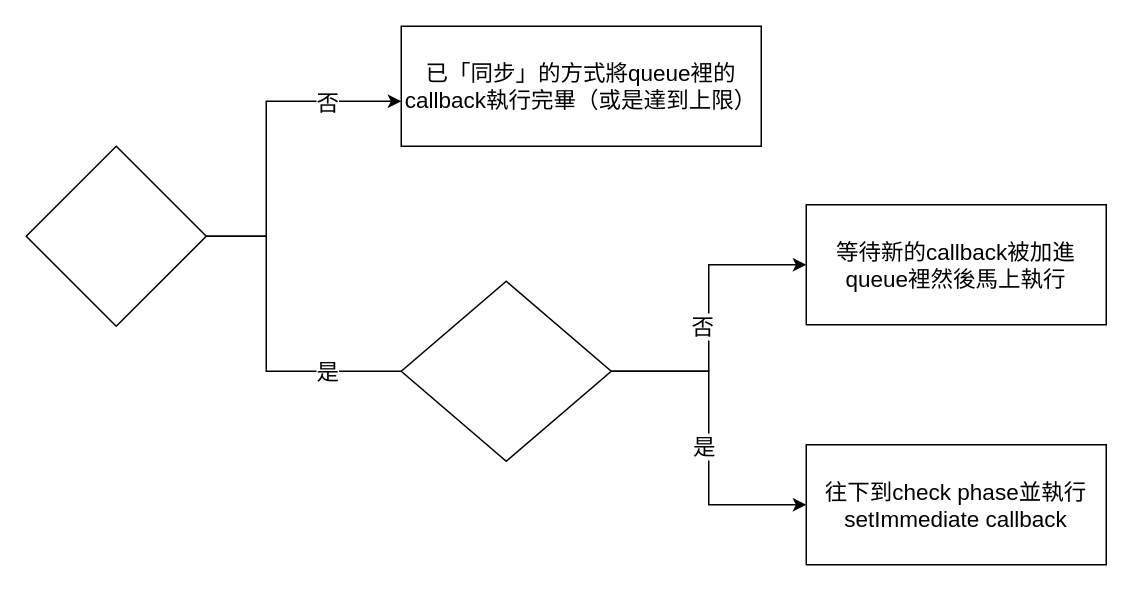
Image size: 1133x591. Some labels were removed from this diagram. The box of each missing label's shape, as (x1, y1, x2, y2) in pixels:
poll queue 目前是空的？: (25, 145, 206, 326)
setImmediate callback 存在？: (400, 280, 611, 461)
